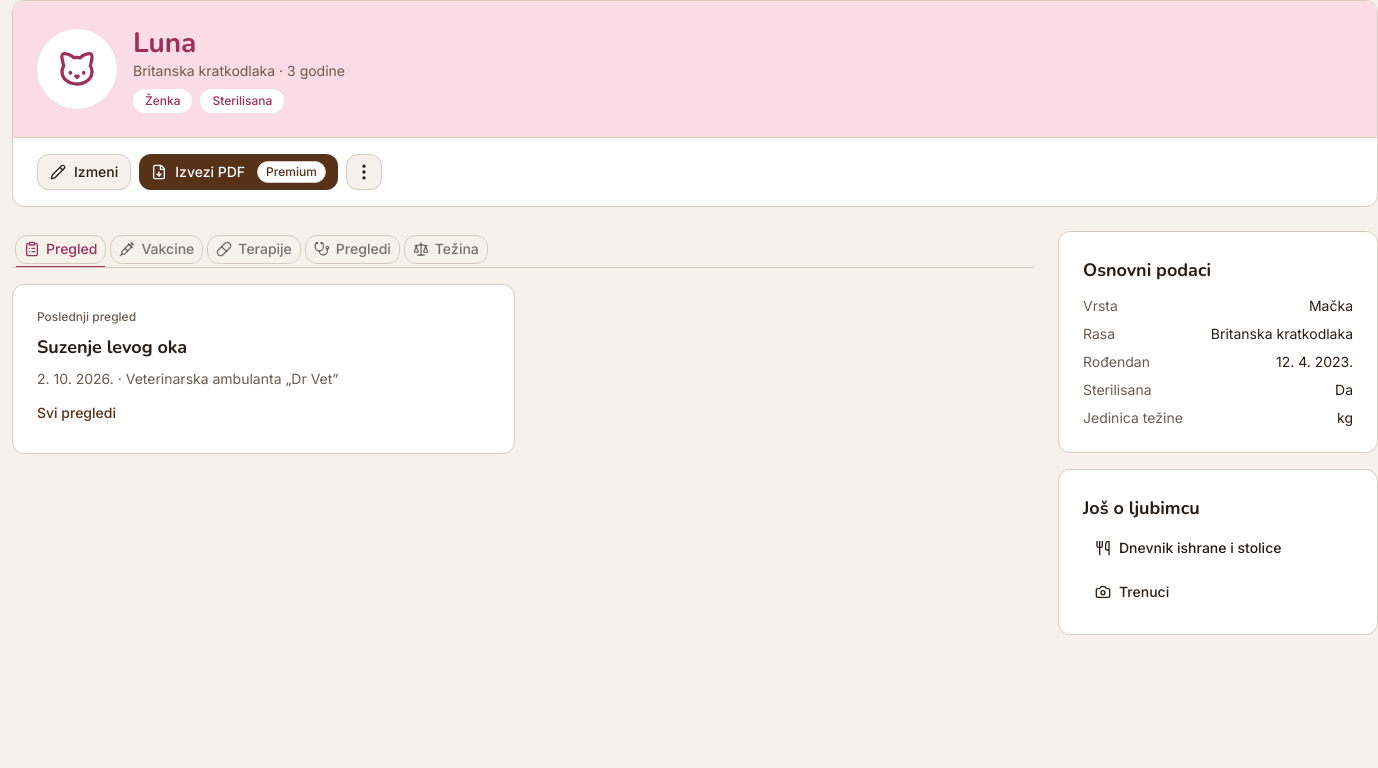
S03 Pregledi — vet visits and attachments (FR-07, FR-08) › shows the visit with cost, findings, the check-up date and the Free counter
What coordinates should you click on to do the following:
click the tab "Pregledi"
I would click on:
 (352, 249)
Its box is [305,234,400,264].
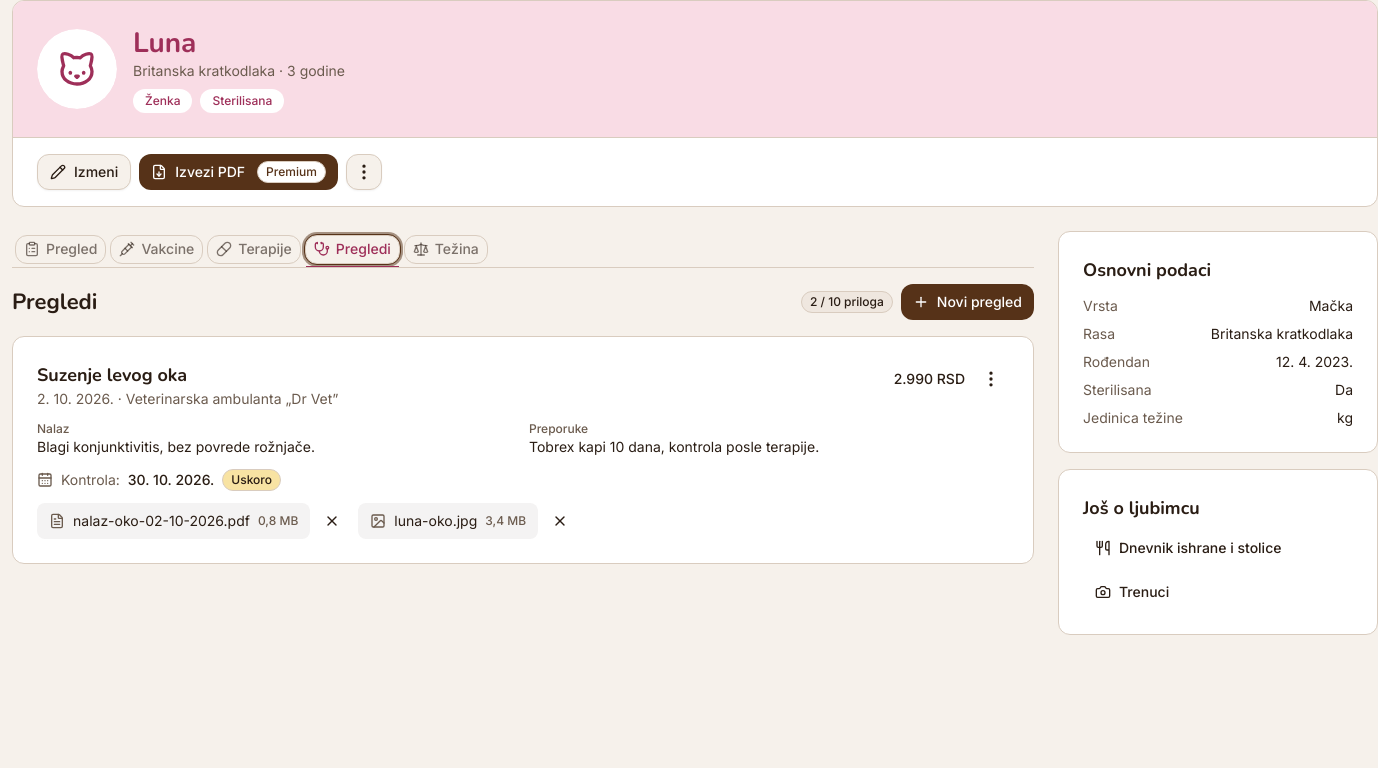
Check: the text "2 / 10 priloga" is shown, box [801,291,893,313]
Check: the text "2.990 RSD" is shown, box [894,369,965,389]
Check: the text "Blagi konjunktivitis, bez povrede rožnjače." is shown, box [37,438,315,455]
